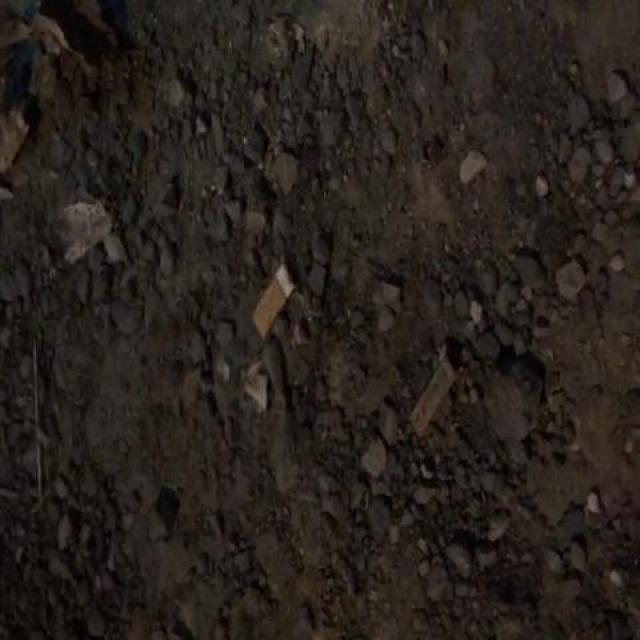non-organic waste: (406, 349, 458, 447), (247, 260, 296, 344)
